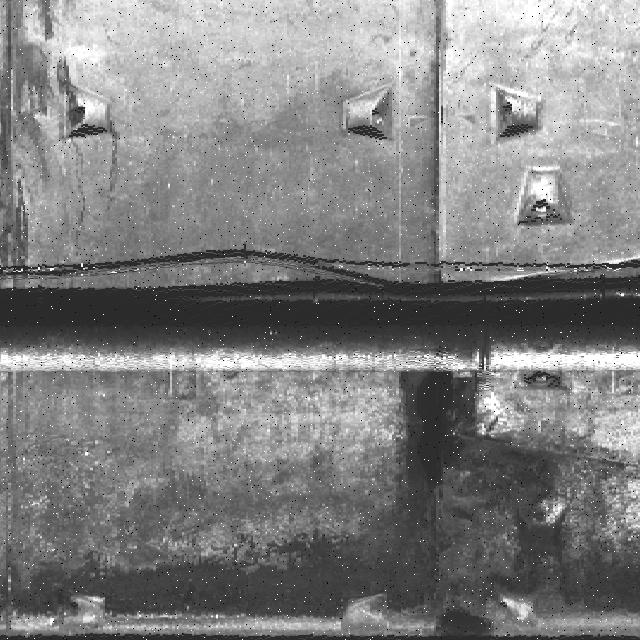leakage: (371, 376, 640, 639), (5, 536, 366, 637), (1, 1, 60, 269)
